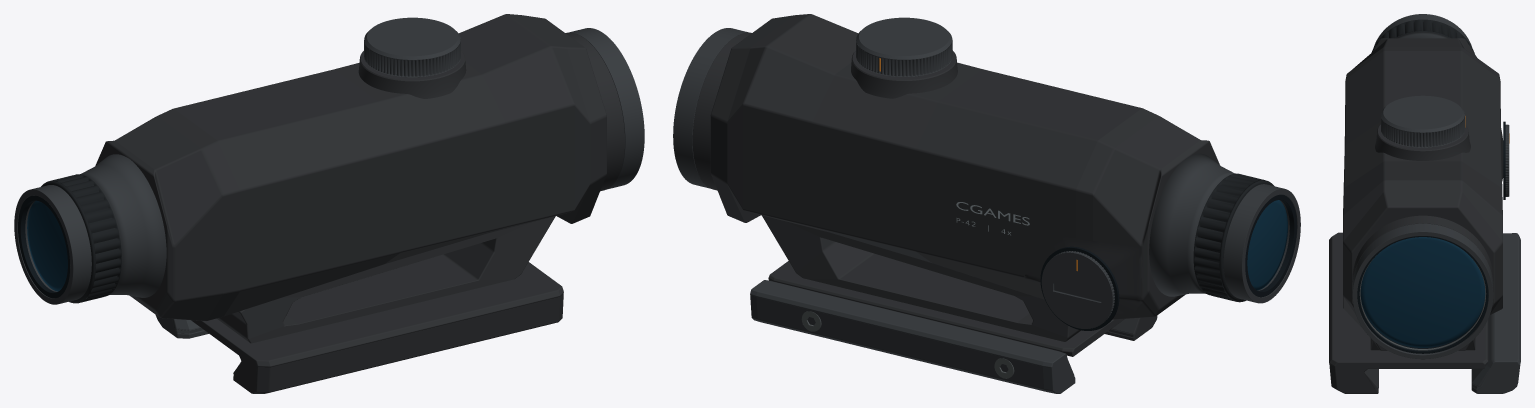
Rendered from P42_4x_Compact_Legacy_K1_Rail_Top.glb.
3 renders of one model, left to right at view 1: azimuth 30°, elevation 25°; view 2: azimuth 150°, elevation 25°; view 3: azimuth 270°, elevation 25°, orthographic. The views are drawn at different scales.
Visible parts, largest first — view 1: 01 PRIMARY | faceted prism housing, 21 LOWER SHELL | thin bridge and fixed edge, 20 UPPER FOOT | open angular saddle, 07 REAR | short taper neck, 10 REAR | end rim, 14 TOP | cap stepped core, 09 REAR | integrated axial rubber grip, 02 FRONT | short protective lip, 12 REAR | visual glass, 03 FRONT | narrow second shoulder, 13 TOP | compact housing boss, 15 TOP | actual fine axial flutes (+3 smaller); view 2: 01 PRIMARY | faceted prism housing, 22 SIDE STRIP | independent continuous bar, 20 UPPER FOOT | open angular saddle, 07 REAR | short taper neck, 21 LOWER SHELL | thin bridge and fixed edge, 18 SIDE | circular cap, 10 REAR | end rim, 14 TOP | cap stepped core, 09 REAR | integrated axial rubber grip, 02 FRONT | short protective lip, 16 SIDE | shallow integral control root, 12 REAR | visual glass (+6 smaller); view 3: 01 PRIMARY | faceted prism housing, 06 FRONT | recessed curved visual coating, 21 LOWER SHELL | thin bridge and fixed edge, 22 SIDE STRIP | independent continuous bar, 02 FRONT | short protective lip, 14 TOP | cap stepped core, 13 TOP | compact housing boss, 04 FRONT | dark cylindrical well, 03 FRONT | narrow second shoulder, 15 TOP | actual fine axial flutes, 09 REAR | integrated axial rubber grip, 10 REAR | end rim (+5 smaller).
Part boxes in pixels (x1,y1,x2,y2): 01 PRIMARY | faceted prism housing: (95, 14, 606, 321); 21 LOWER SHELL | thin bridge and fixed edge: (191, 262, 563, 393); 20 UPPER FOOT | open angular saddle: (217, 216, 555, 343); 07 REAR | short taper neck: (80, 154, 166, 297); 10 REAR | end rim: (14, 185, 91, 304); 14 TOP | cap stepped core: (364, 17, 460, 77); 09 REAR | integrated axial rubber grip: (50, 174, 121, 303); 02 FRONT | short protective lip: (569, 28, 644, 189); 12 REAR | visual glass: (27, 200, 67, 291); 03 FRONT | narrow second shoulder: (565, 32, 624, 191); 13 TOP | compact housing boss: (358, 50, 466, 98); 15 TOP | actual fine axial flutes: (364, 39, 460, 76); 01 PRIMARY | faceted prism housing: (710, 14, 1219, 319); 22 SIDE STRIP | independent continuous bar: (750, 280, 1075, 393); 20 UPPER FOOT | open angular saddle: (762, 215, 1080, 341); 07 REAR | short taper neck: (1149, 153, 1235, 296); 21 LOWER SHELL | thin bridge and fixed edge: (768, 261, 1157, 356); 18 SIDE | circular cap: (1041, 252, 1113, 328); 10 REAR | end rim: (1223, 184, 1300, 303); 14 TOP | cap stepped core: (856, 17, 952, 76); 09 REAR | integrated axial rubber grip: (1194, 173, 1264, 301); 02 FRONT | short protective lip: (673, 28, 748, 188); 16 SIDE | shallow integral control root: (1023, 234, 1143, 315); 12 REAR | visual glass: (1247, 200, 1287, 290); 01 PRIMARY | faceted prism housing: (1343, 38, 1502, 350); 06 FRONT | recessed curved visual coating: (1360, 237, 1485, 347); 21 LOWER SHELL | thin bridge and fixed edge: (1329, 232, 1488, 393); 22 SIDE STRIP | independent continuous bar: (1471, 233, 1520, 393); 02 FRONT | short protective lip: (1352, 223, 1493, 359); 14 TOP | cap stepped core: (1381, 95, 1464, 147); 13 TOP | compact housing boss: (1375, 124, 1470, 160); 04 FRONT | dark cylindrical well: (1357, 236, 1488, 353); 03 FRONT | narrow second shoulder: (1352, 215, 1493, 283); 15 TOP | actual fine axial flutes: (1381, 113, 1464, 147); 09 REAR | integrated axial rubber grip: (1372, 20, 1473, 51); 10 REAR | end rim: (1373, 14, 1471, 47).
Size of the model in its own units: 0.1602 by 0.0751 by 0.0546.
